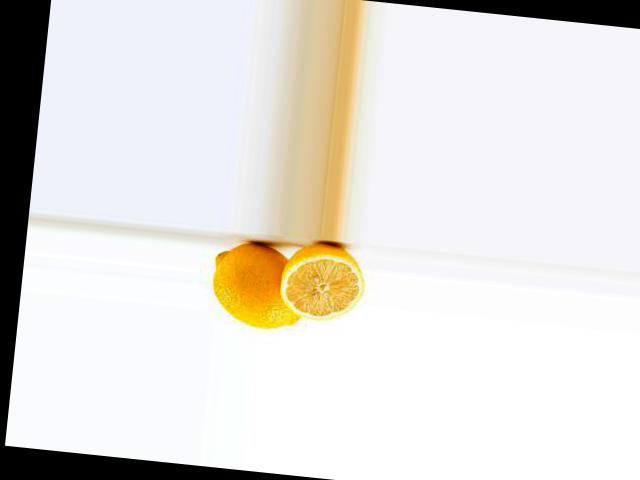lemon: (204, 236, 318, 336)
